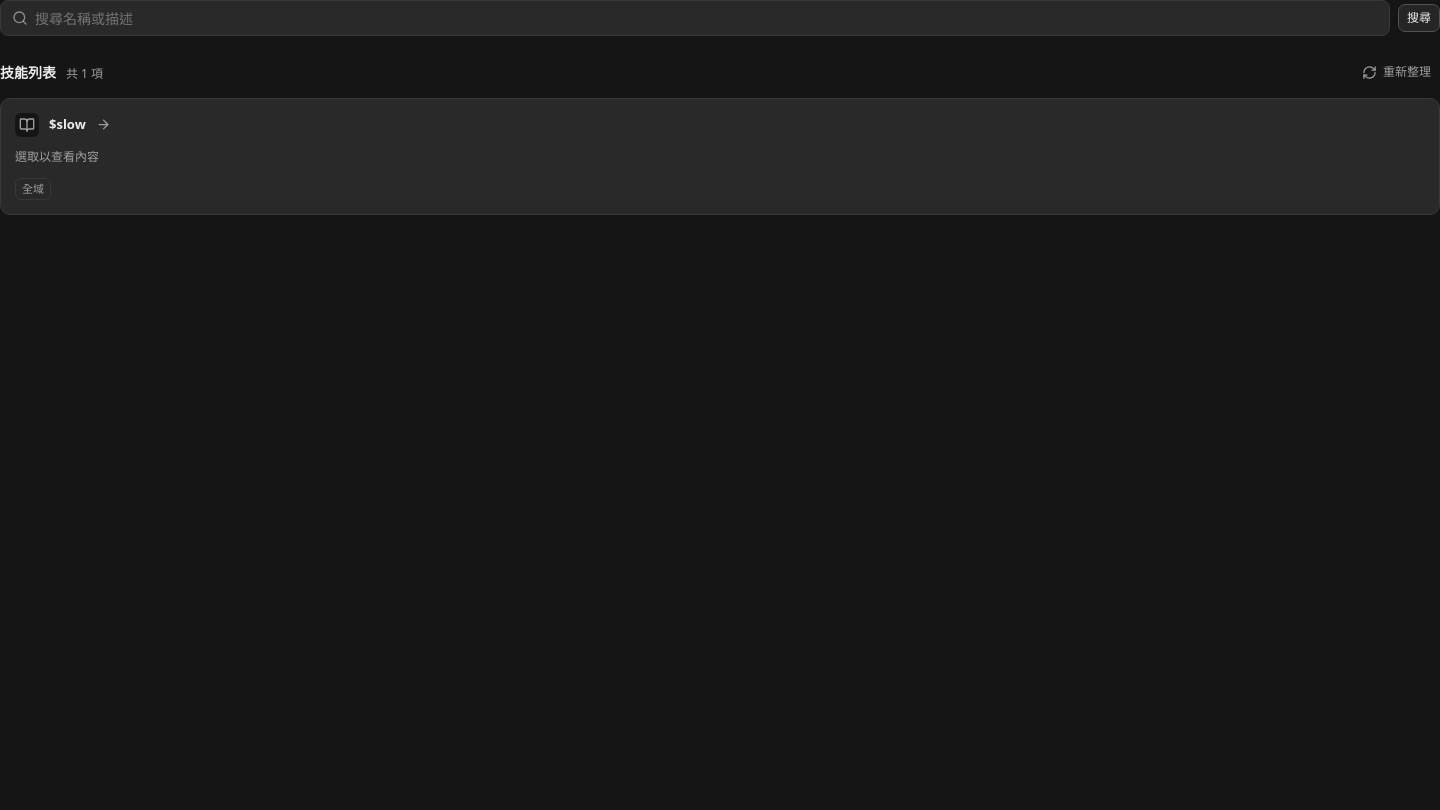
Test case: does not reopen a preview after a pending read was closed
Click the button "$slow 選取以查看內容 全域" at (720, 157), box [0,98,1439,215]
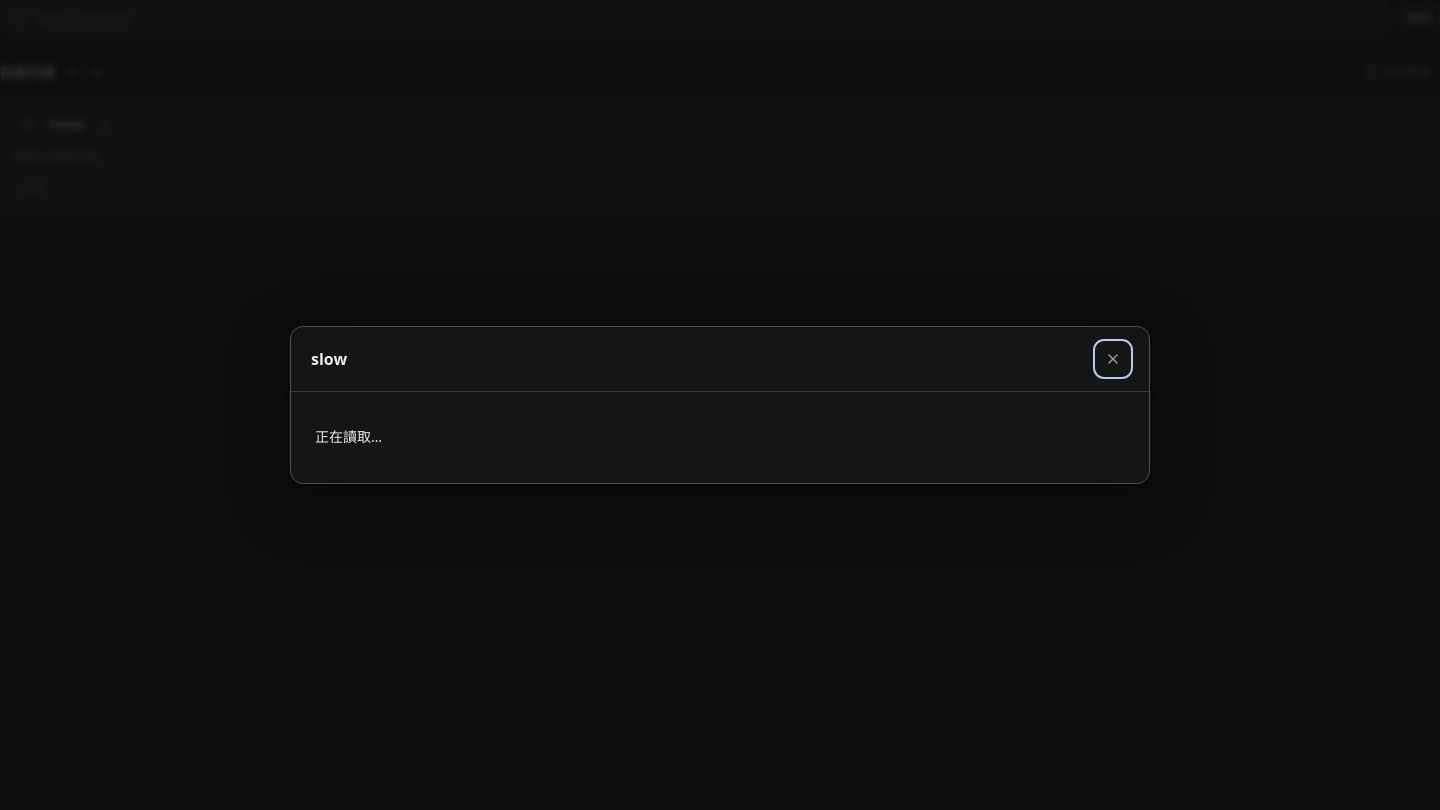
Press Escape in the button named "關閉內容預覽", box [1097,342,1129,374]
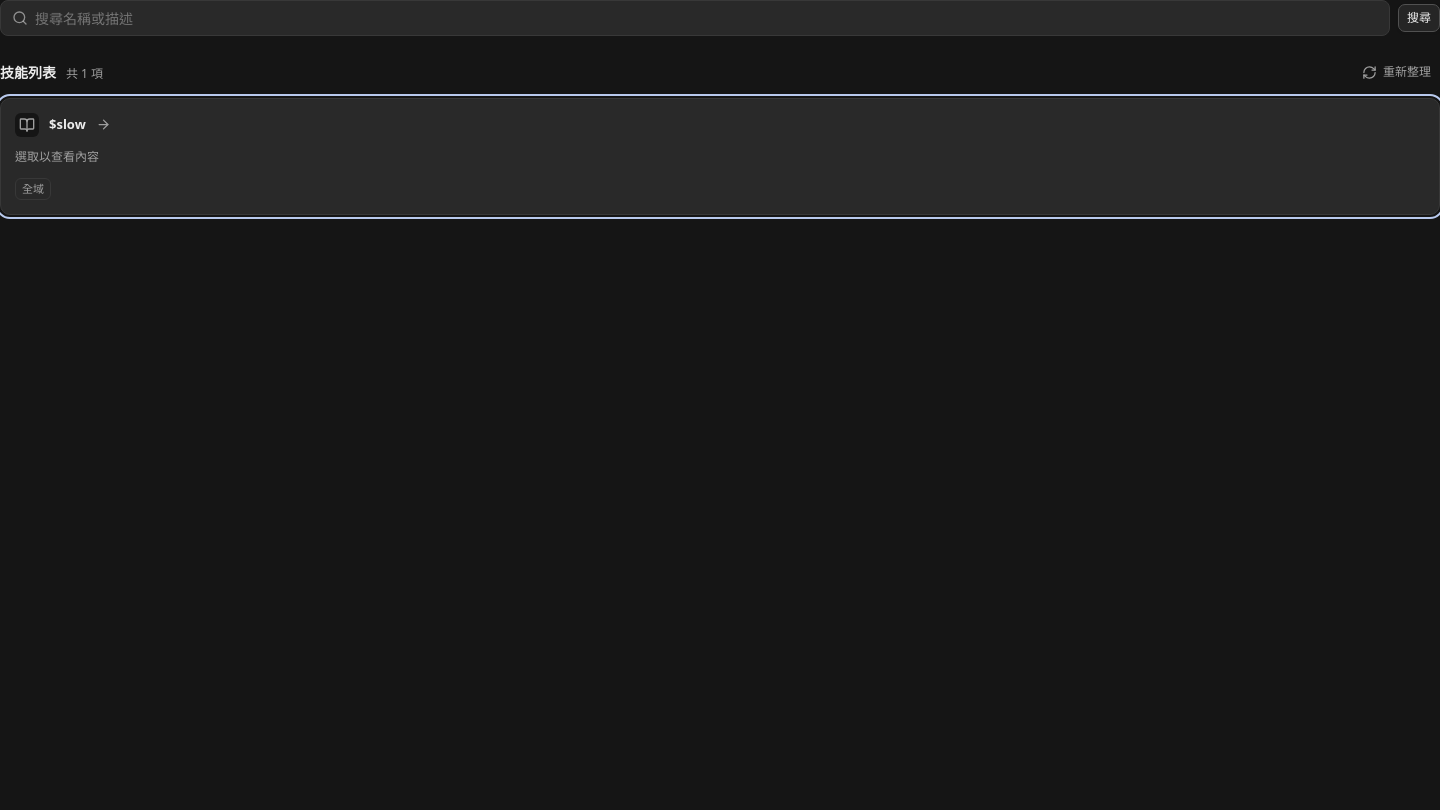
Check: the dialog is gone
